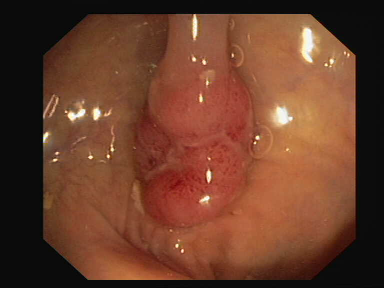polyp: (111, 37, 282, 233)
